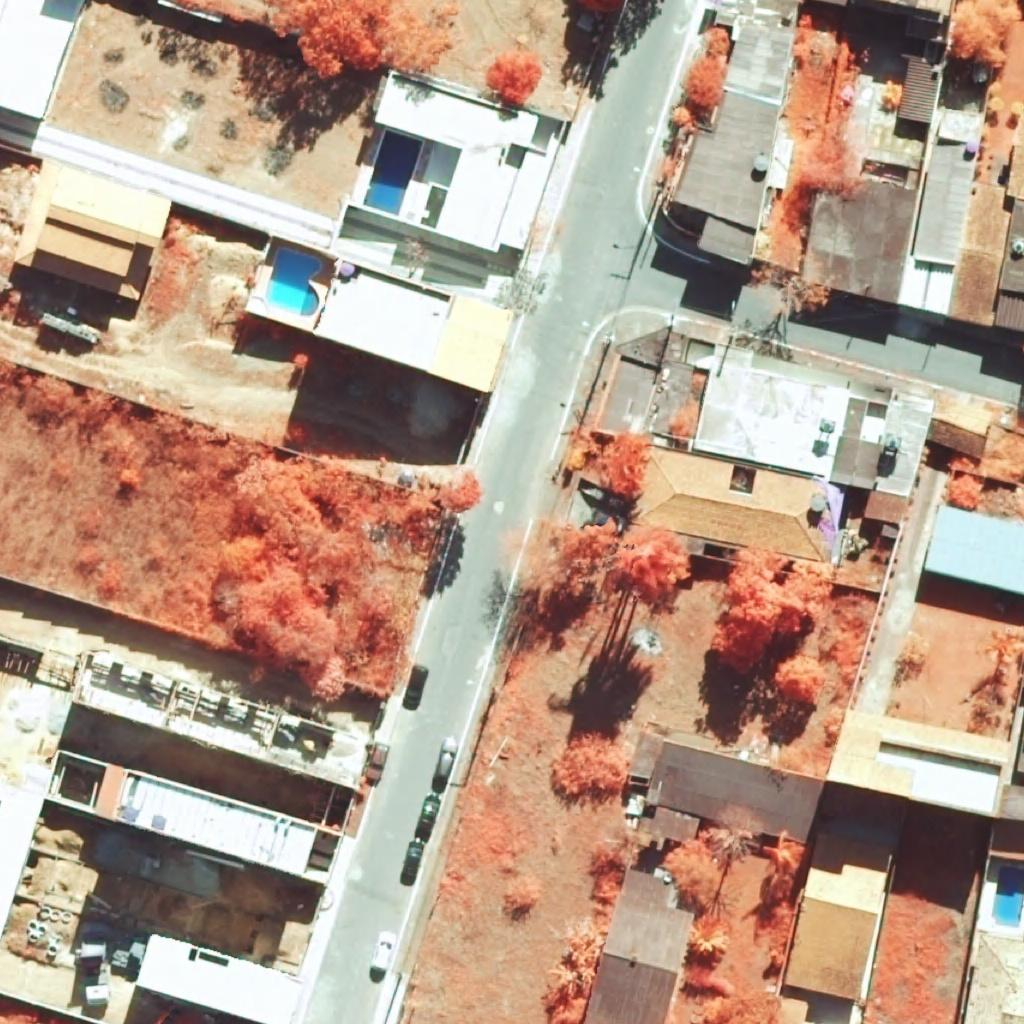pool: (362, 129, 423, 216), (266, 249, 320, 316), (992, 866, 1024, 927)
